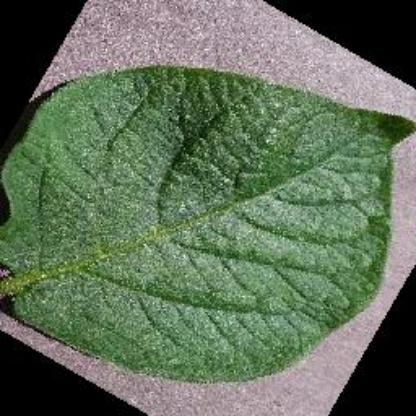Healthy-plant: (2, 61, 416, 388)
